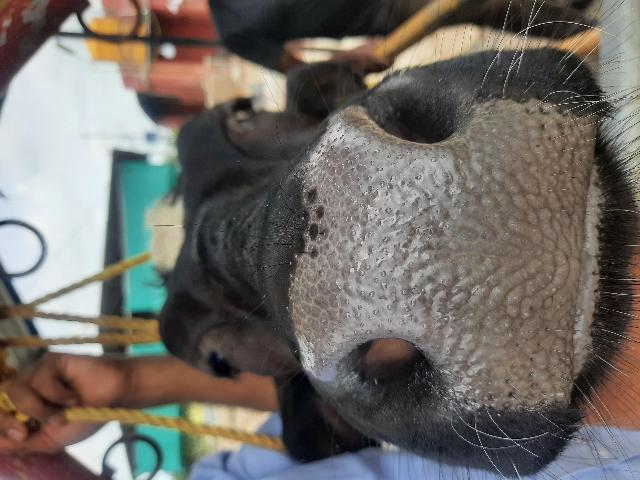Muzzle: (299, 122, 587, 398)
